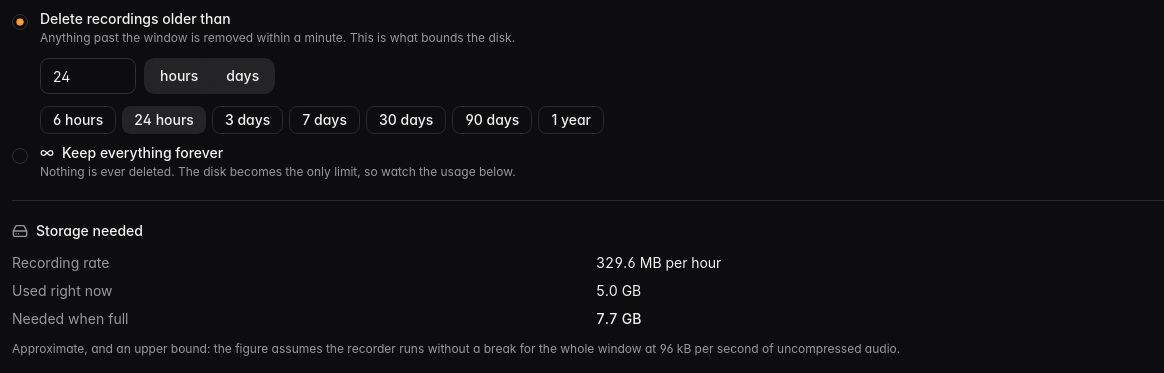
Test: the retention settings card › the storage projection › projects the window being typed before it is committed
Replace the text in the number field named "Retention amount" with "48" at coordinates (88, 76), box [40,58,136,94]
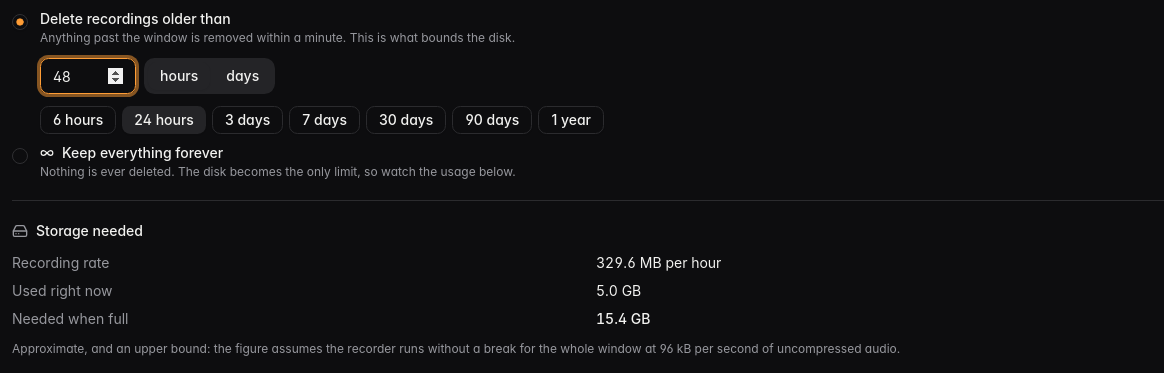
Result: the text "15.4 GB" is shown at [596,310,650,327]
